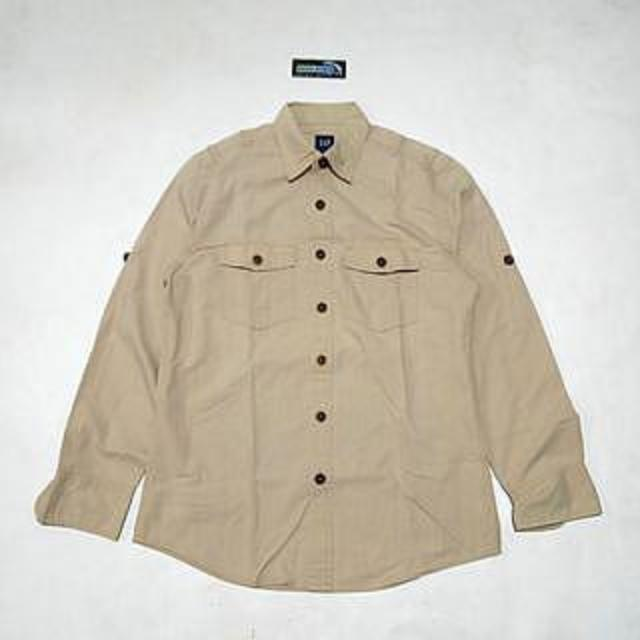SHIRT: (21, 96, 640, 604)
